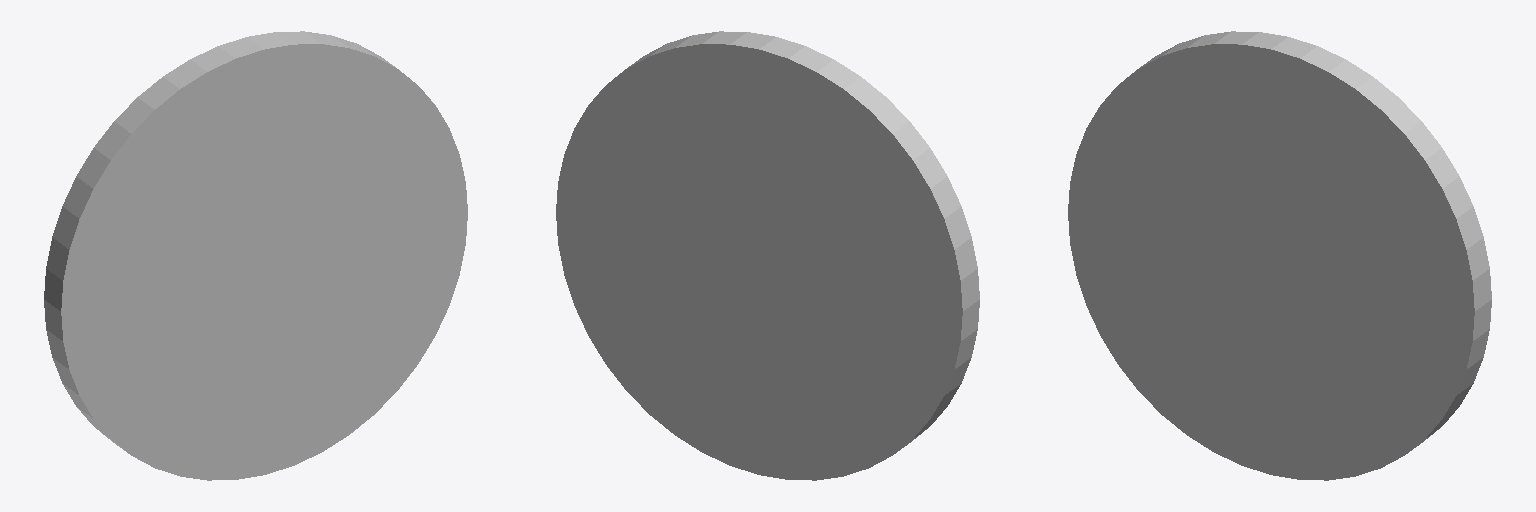
The model's file is coin.obj.
3 renders of one model, left to right at view 1: azimuth 30°, elevation 25°; view 2: azimuth 150°, elevation 25°; view 3: azimuth 330°, elevation 25°, orthographic.
Parts seen in each view (by area): view 1: Cylinder002; view 2: Cylinder002; view 3: Cylinder002.
Part boxes in pixels (x1,y1,x2,y2): Cylinder002: (44,31,467,480); Cylinder002: (556,31,979,480); Cylinder002: (1068,31,1491,480).
Bounding box in the file's own units: 70.77 × 70.77 × 5.22.